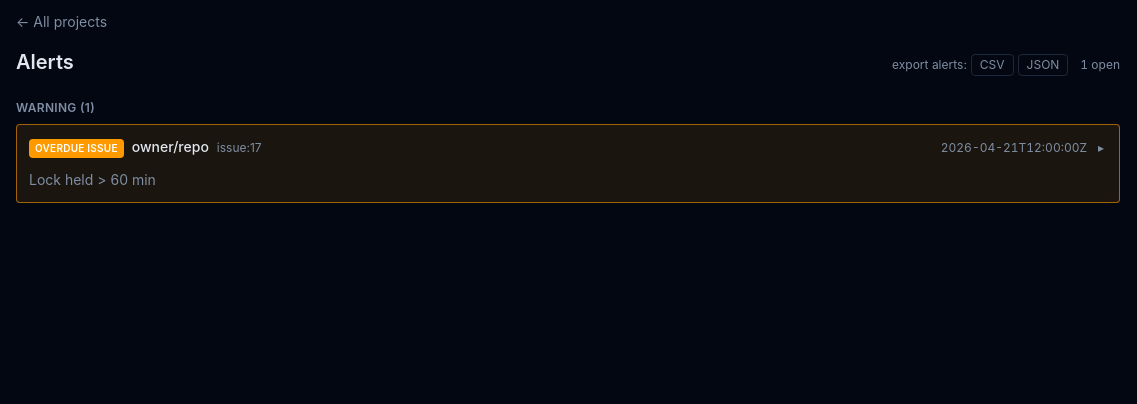
Alerts page › shows success banner after Close mutation resolves
This screenshot has width=1137, height=404.
Click the button with aria-label "toggle overdue_issue": {"x": 76, "y": 148} [29,138,1104,158]
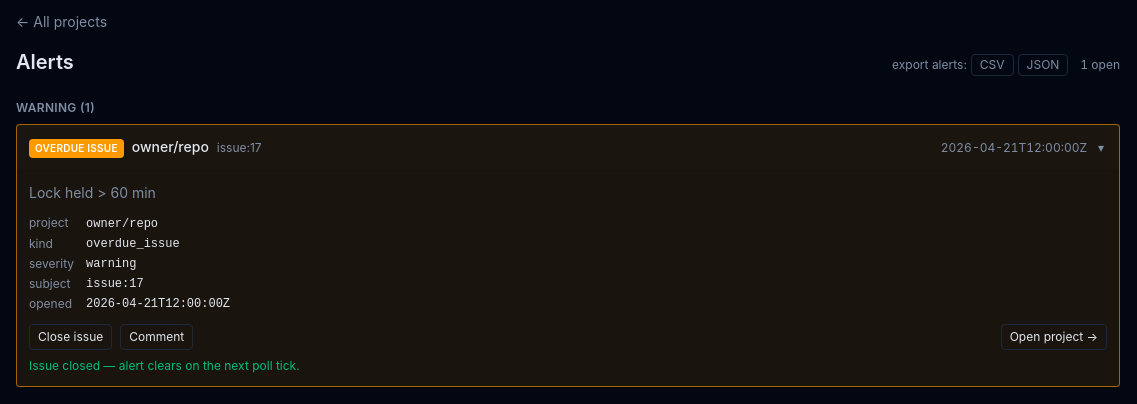
Result: the message shows "Issue closed" at [29,358,300,373]
Result: the message shows "alert clears on the next poll" at [29,358,300,373]
